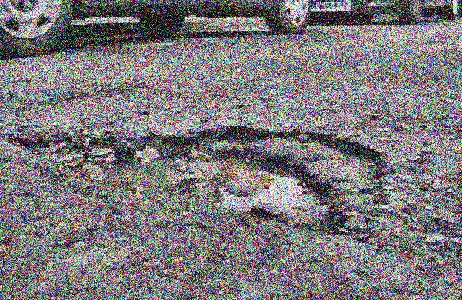pothole: (8, 122, 386, 246)
